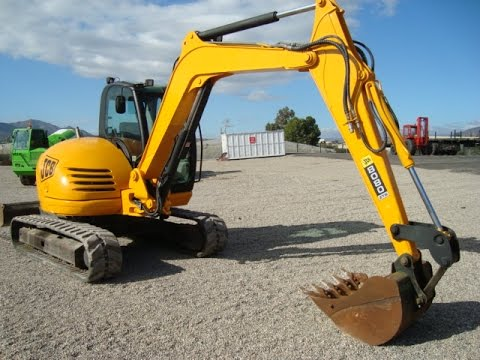backhoe: (13, 1, 450, 345)
